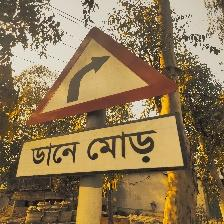Right-turn: (14, 24, 190, 176)
